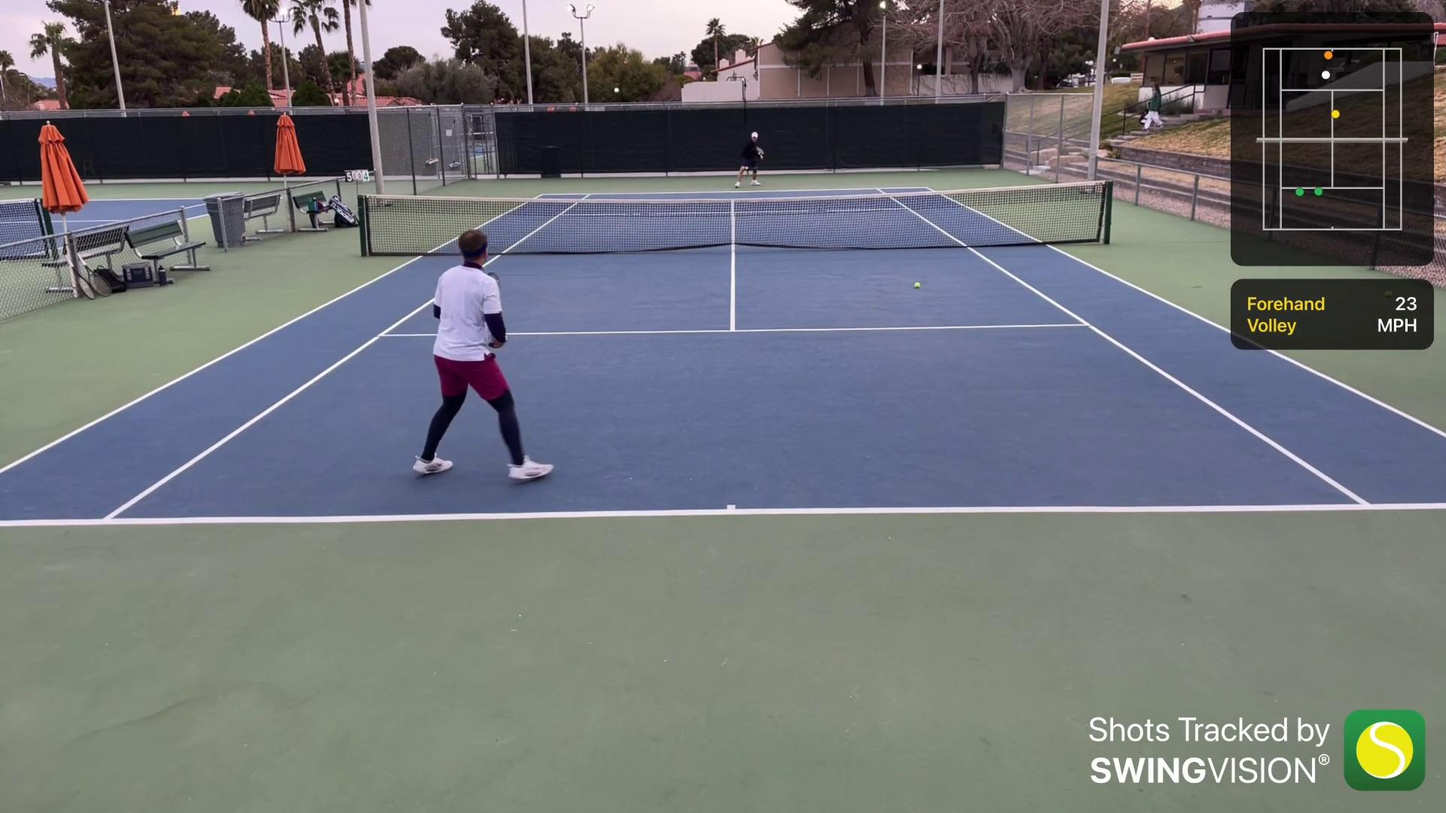ball: (912, 278, 921, 290)
